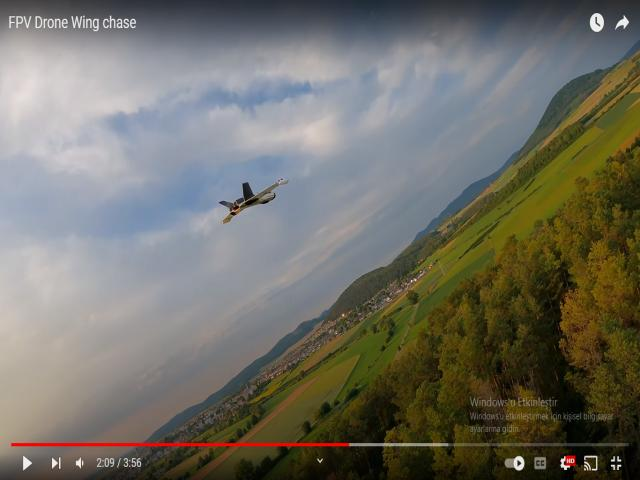plane: (220, 180, 286, 224)
